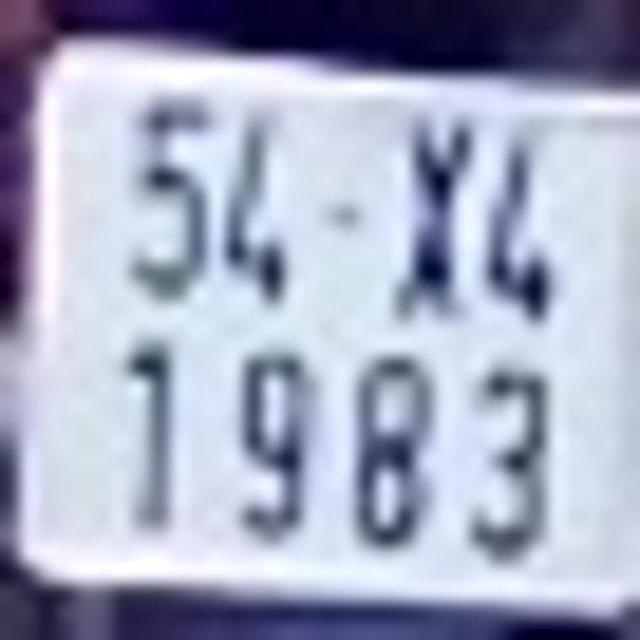1: (116, 338, 184, 536)
3: (458, 353, 553, 569)
4: (480, 130, 567, 329), (221, 112, 294, 313)
5: (131, 93, 212, 314)
8: (352, 337, 435, 553)
9: (234, 344, 317, 554)
X: (387, 113, 472, 328)
